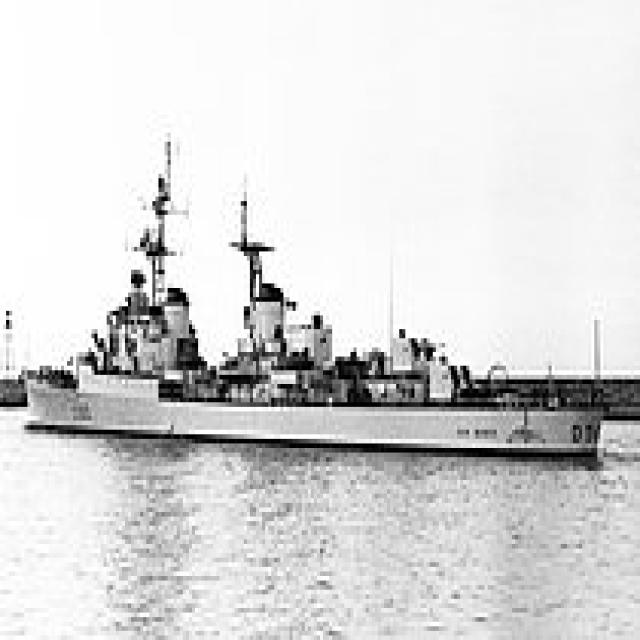Warship: (19, 123, 604, 462)
